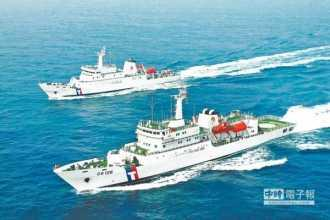warship: (54, 107, 291, 194), (34, 47, 184, 98)
